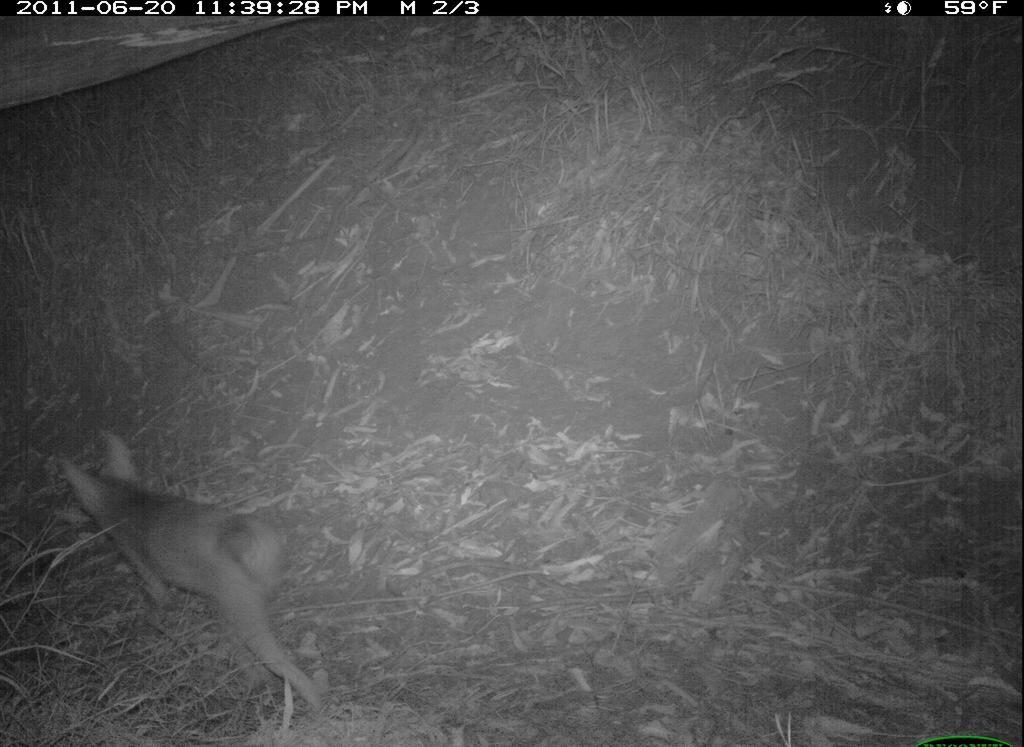coyote: (53, 414, 363, 733)
